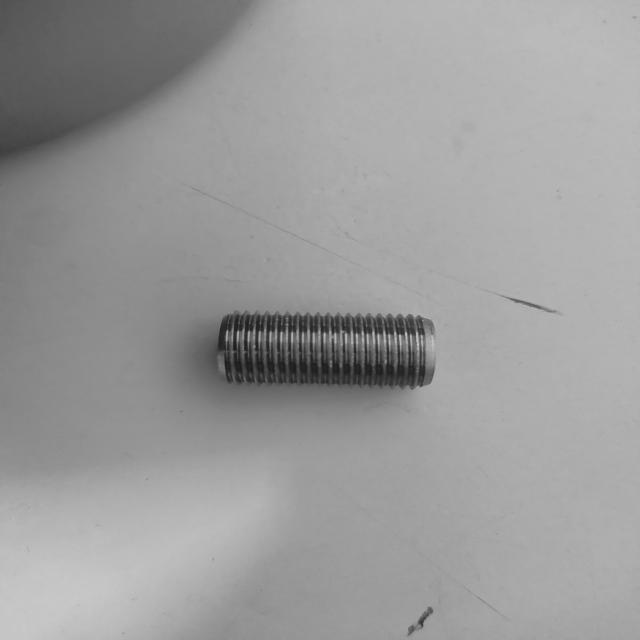Normal: (216, 310, 438, 391)
